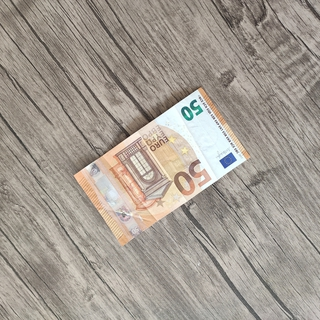50EUROFront: (72, 85, 252, 247)
